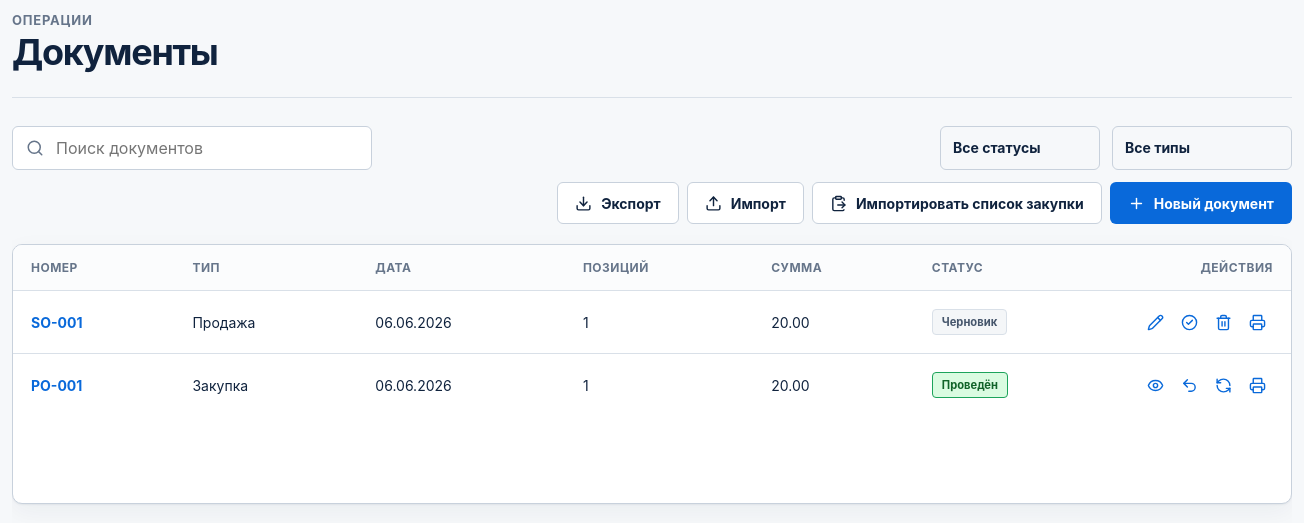
documents workspace › renders and filters draft and posted documents
Check: the button "SO-001" is shown, box [31,314,82,331]
Check: the button "PO-001" is shown, box [31,377,82,394]
Select "Проведён" in the dropdown named "Фильтр по статусу" at (1020,148), box [940,126,1100,170]
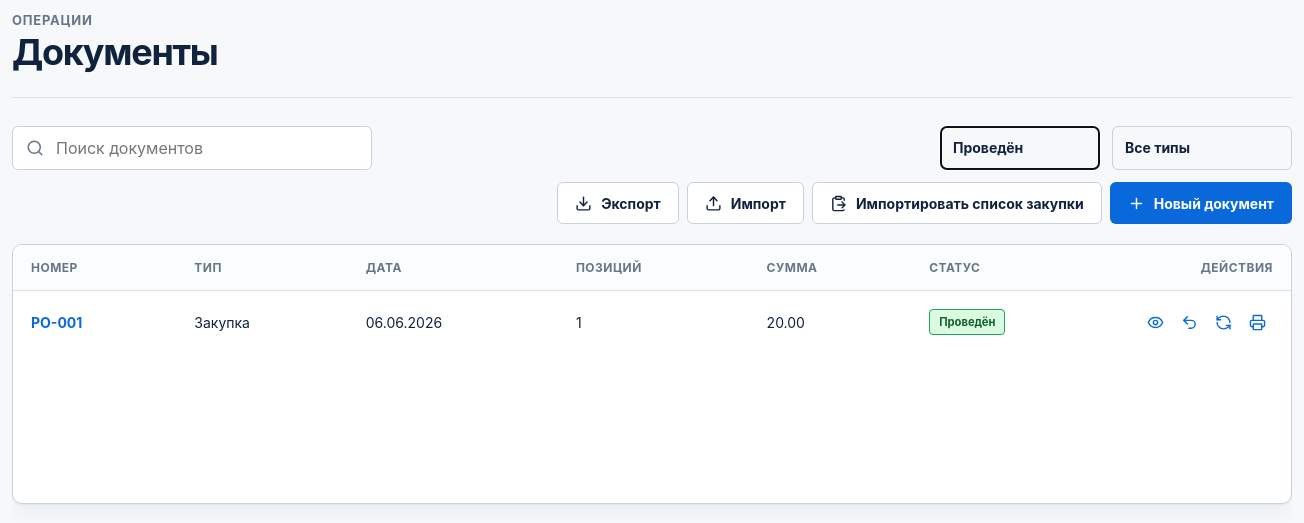
Check: the button "PO-001" is shown, box [31,314,82,331]
Check: the button "SO-001" is gone
